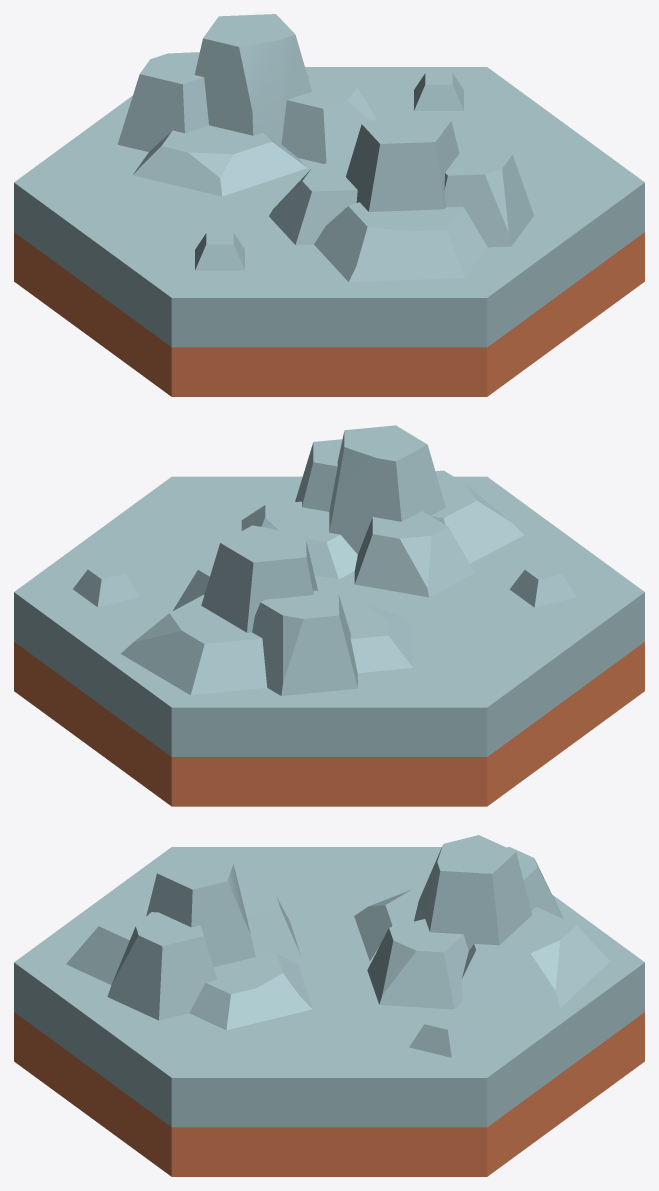
File: stone_rocks.dae
The picture shows the model from 3 angles, top to bottom: view 1: azimuth 30°, elevation 25°; view 2: azimuth 150°, elevation 25°; view 3: azimuth 270°, elevation 25°; orthographic projection.
Parts seen in each view (by area): view 1: stone_rocks, rockLarge (×2), rock (×2); view 2: stone_rocks, rockLarge (×2), rock (×2); view 3: stone_rocks, rockLarge (×2), rock.
Part boxes in pixels (x1,y1,x2,y2): stone_rocks: [14, 67, 644, 396]; rockLarge (×2): [117, 14, 533, 282]; rock (×2): [195, 73, 463, 270]; stone_rocks: [14, 476, 644, 806]; rockLarge (×2): [121, 425, 523, 695]; rock (×2): [73, 563, 576, 607]; stone_rocks: [14, 847, 644, 1176]; rockLarge (×2): [66, 835, 610, 1030]; rock: [409, 1014, 476, 1057].
Bounding box in the file's own units: 1 × 0.4061 × 1.15.
